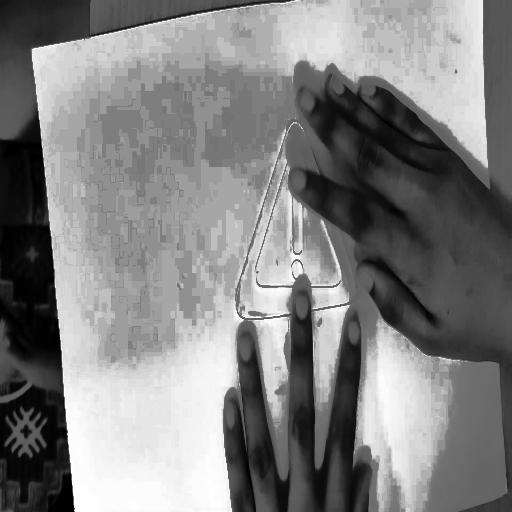bottom_right: (503, 485, 510, 497)
signboard: (219, 97, 385, 453)
top_left: (27, 45, 36, 62)
